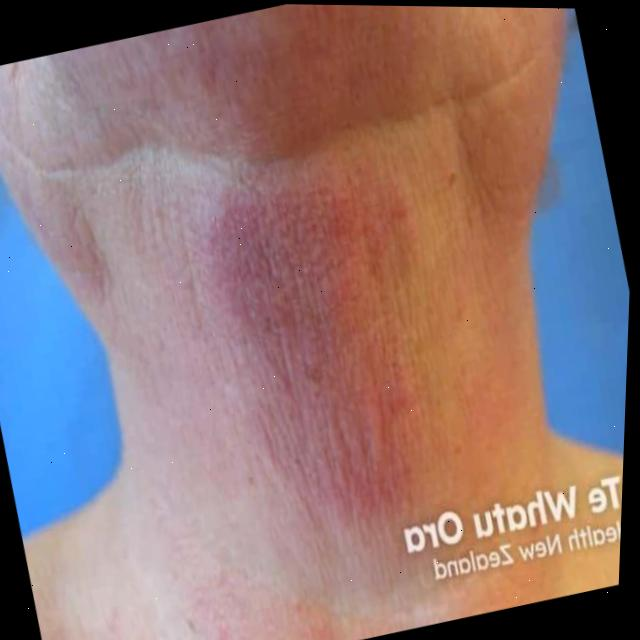Eczema: (188, 136, 499, 520)
